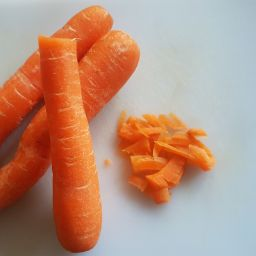Sliced carrots: (1, 6, 224, 234), (4, 7, 132, 256), (35, 35, 114, 256), (109, 100, 222, 207)
